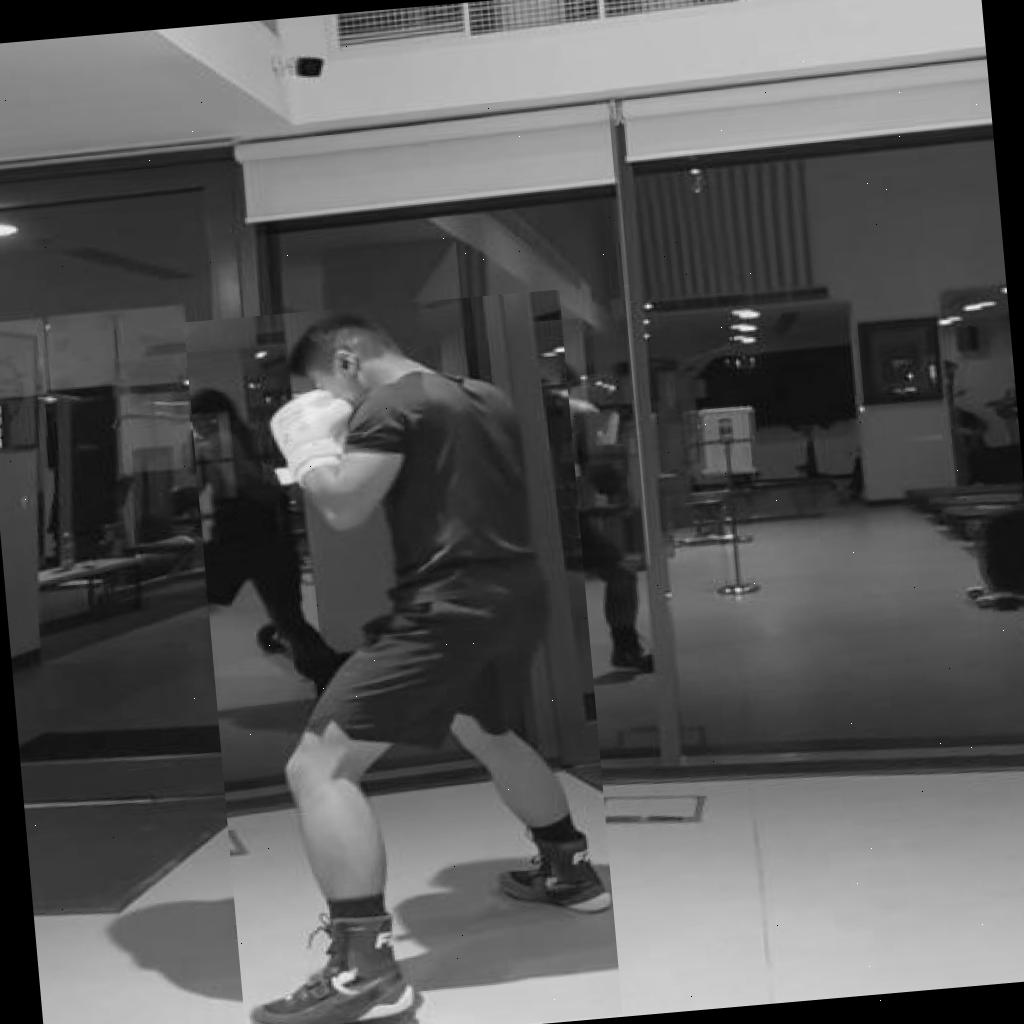no punch: (183, 289, 622, 1024)
